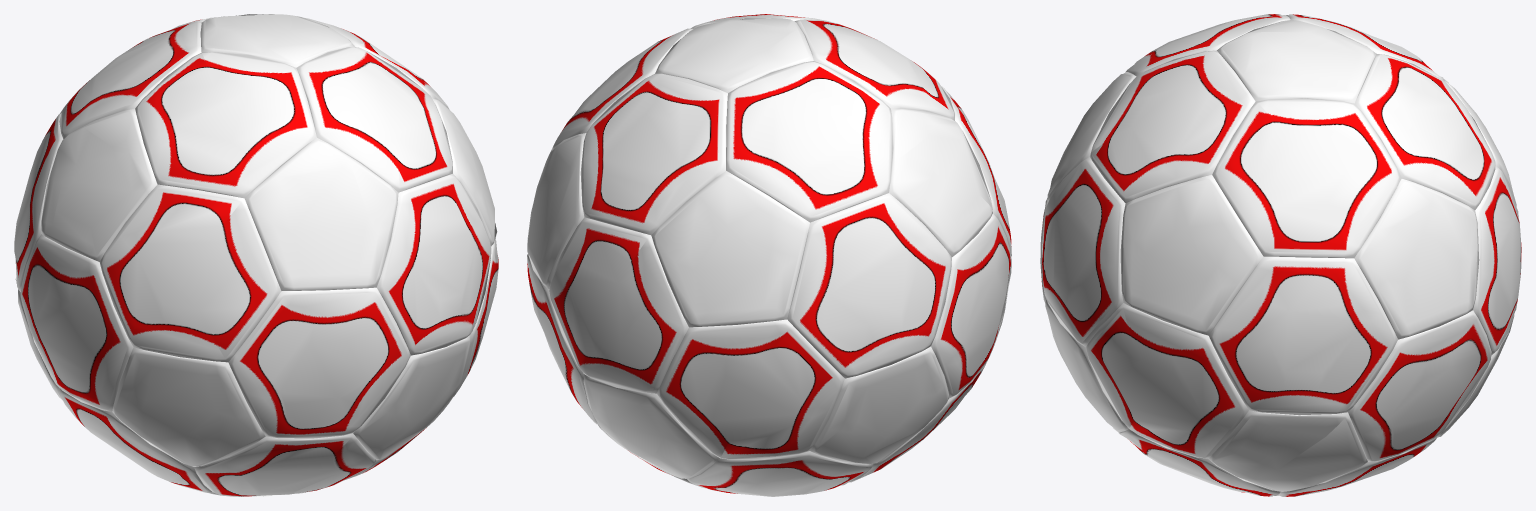
Rendered from loptaglavna.glb.
3 renders of one model, left to right at view 1: azimuth 30°, elevation 25°; view 2: azimuth 150°, elevation 25°; view 3: azimuth 270°, elevation 25°, orthographic.
Visible parts, largest first — view 1: Soccer Ball; view 2: Soccer Ball; view 3: Soccer Ball.
Boxes of the visible parts, x1,y1,x2,y2 form: Soccer Ball: (14,14,498,496); Soccer Ball: (527,14,1011,496); Soccer Ball: (1040,14,1521,496).
Size of the model in its own units: 0.2196 by 0.2195 by 0.2191.
Materials: 1 (1 with a texture image).
